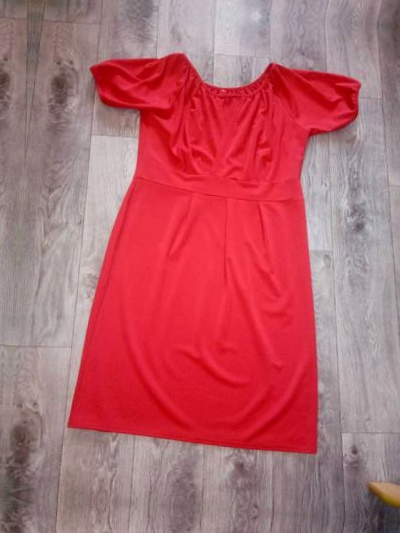Dress: (35, 25, 383, 466), (0, 0, 4, 439), (68, 0, 400, 1)
